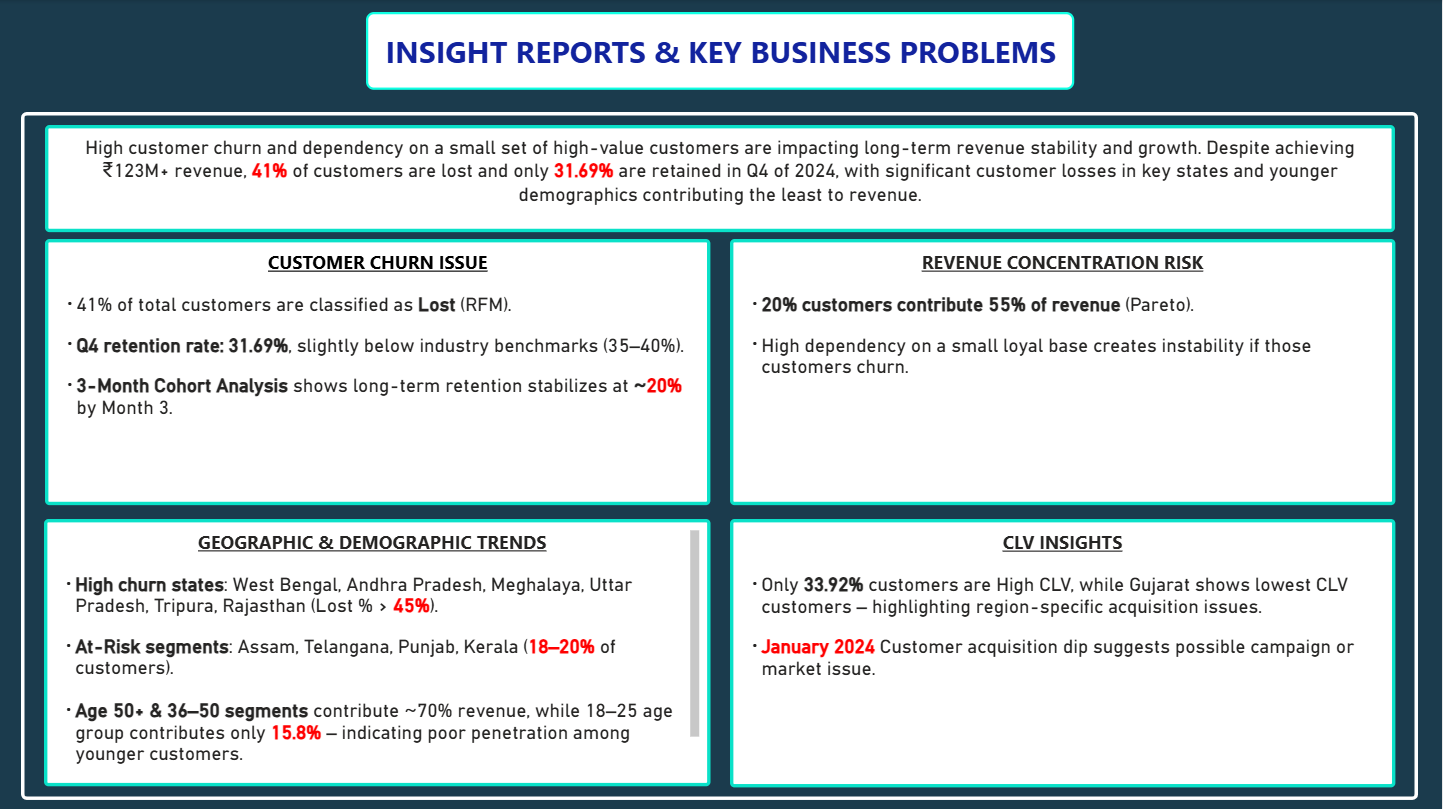

The page's visual inventory and layout, read from the dashboard file:
{"tool":"powerbi","page":{"name":"Insight Reports & Key Business Problems","canvas":[1280,720],"ordinal":3},"visuals":[{"type":"textbox","box":[326.3,10.6,627.8,69.2],"z":0},{"type":"shape","box":[20.4,99.3,1238.7,610],"z":1000},{"type":"textbox","box":[41.7,110.8,1197,94.9],"z":2000},{"type":"textbox","box":[649.1,211.9,589.7,235.9],"z":3000},{"type":"textbox","box":[40.8,460.2,590.5,236.7],"z":4000},{"type":"textbox","box":[649.1,460.2,589.7,237.6],"z":5000},{"type":"textbox","box":[41.7,211.9,590,235.9],"z":6000}]}

Visuals, with their boxes in screenshot pixels (x1, y1, x2, y2), scaled from the page's 1280x720 canvas onto the 1443x809 screenshot:
textbox: 368 12 1076 90
shape: 23 112 1419 797
textbox: 47 124 1396 231
textbox: 732 238 1397 503
textbox: 46 517 712 783
textbox: 732 517 1397 784
textbox: 47 238 712 503
